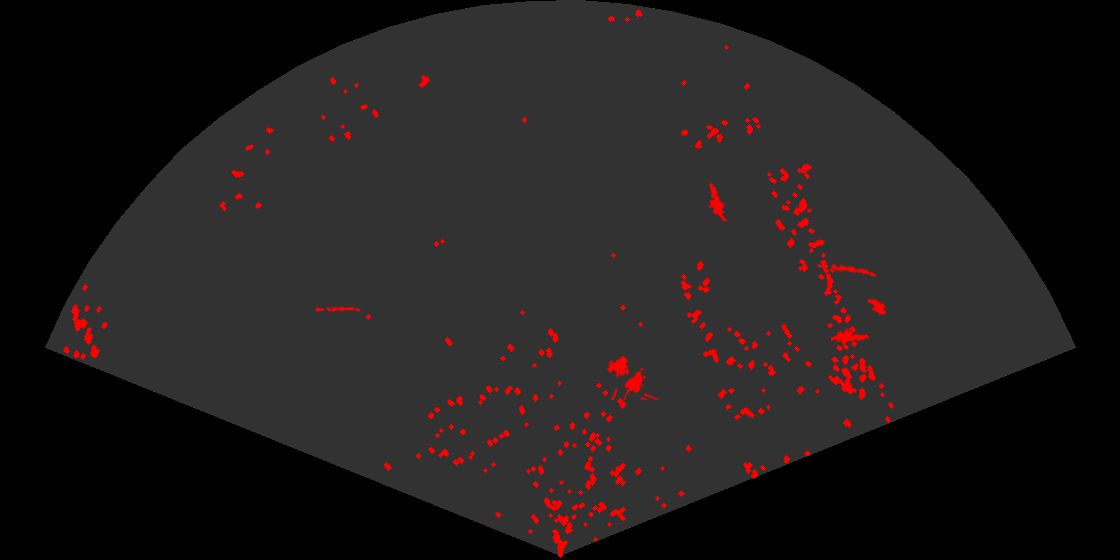AUV: (865, 297, 888, 317)
cage: (606, 354, 659, 400)
chain: (816, 262, 878, 279), (315, 305, 361, 314)
frogman: (707, 181, 729, 221), (831, 327, 871, 346)
